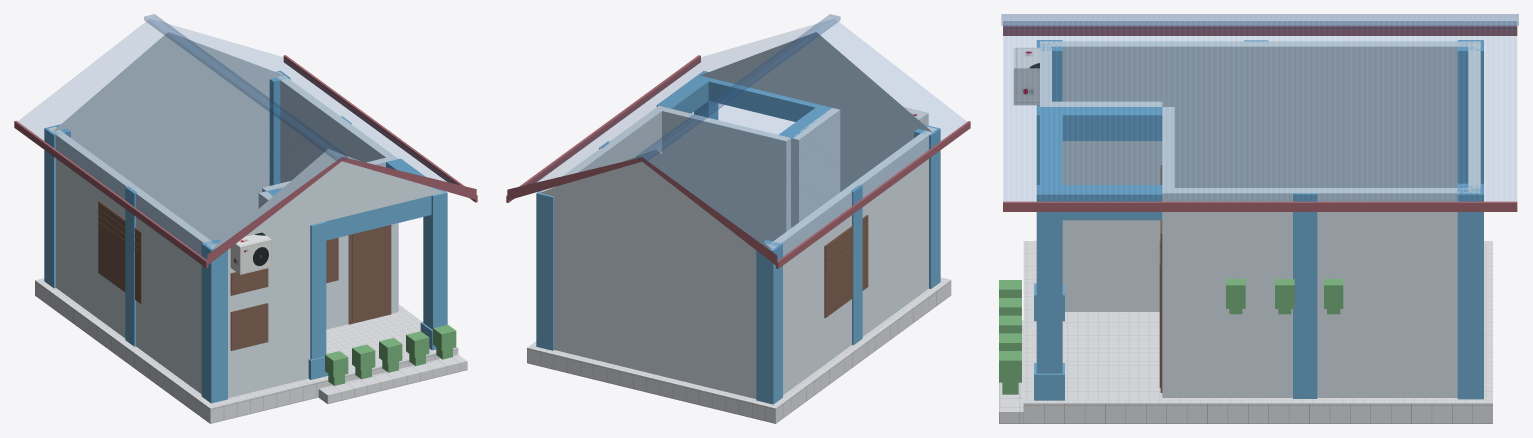
The model's file is gedung_pmr_cutaway.glb.
3 renders of one model, left to right at view 1: azimuth 30°, elevation 25°; view 2: azimuth 150°, elevation 25°; view 3: azimuth 270°, elevation 25°, orthographic. The views are drawn at different scales.
Visible parts, largest first — view 1: Dinding_Biru_Muda, Atap_Seng_Biru, Pilar_Lis_Biru_Tua, Lantai_Keramik_Pondasi, Kusen_Kayu_Coklat, Lisplang_Merah_Marun, Pot_Tanaman_Hias, AC_Outdoor_LG; view 2: Dinding_Biru_Muda, Atap_Seng_Biru, Pilar_Lis_Biru_Tua, Lantai_Keramik_Pondasi, Lisplang_Merah_Marun, Kusen_Kayu_Coklat; view 3: Dinding_Biru_Muda, Atap_Seng_Biru, Pilar_Lis_Biru_Tua, Lantai_Keramik_Pondasi, Lisplang_Merah_Marun, Pot_Tanaman_Hias, AC_Outdoor_LG, Kusen_Kayu_Coklat.
Part boxes in pixels (x1,y1,x2,y2): Dinding_Biru_Muda: [48, 32, 443, 397]; Atap_Seng_Biru: [18, 14, 455, 259]; Pilar_Lis_Biru_Tua: [44, 70, 447, 403]; Lantai_Keramik_Pondasi: [35, 278, 467, 423]; Kusen_Kayu_Coklat: [98, 201, 391, 350]; Lisplang_Merah_Marun: [14, 55, 477, 268]; Pot_Tanaman_Hias: [325, 324, 456, 385]; AC_Outdoor_LG: [230, 232, 271, 274]; Dinding_Biru_Muda: [540, 32, 936, 398]; Atap_Seng_Biru: [529, 14, 966, 259]; Pilar_Lis_Biru_Tua: [536, 71, 940, 404]; Lantai_Keramik_Pondasi: [527, 277, 951, 423]; Lisplang_Merah_Marun: [506, 55, 970, 268]; Kusen_Kayu_Coklat: [824, 215, 868, 318]; Dinding_Biru_Muda: [1040, 41, 1480, 397]; Atap_Seng_Biru: [1001, 14, 1518, 200]; Pilar_Lis_Biru_Tua: [1034, 40, 1483, 400]; Lantai_Keramik_Pondasi: [999, 241, 1492, 423]; Lisplang_Merah_Marun: [1003, 26, 1517, 211]; Pot_Tanaman_Hias: [999, 279, 1343, 394]; AC_Outdoor_LG: [1013, 47, 1039, 105]; Kusen_Kayu_Coklat: [1038, 105, 1162, 392].
Size of the model in its own units: 5.14 by 4.4 by 6.37.
Materials: 12 (4 with a texture image).
